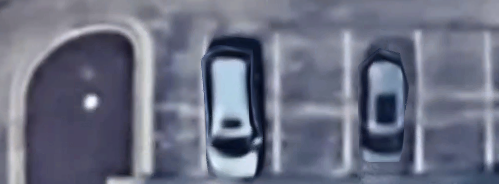Occupied: (203, 32, 276, 172), (347, 33, 419, 172)
Vacant: (418, 33, 490, 173), (276, 33, 348, 170), (145, 32, 203, 171)
